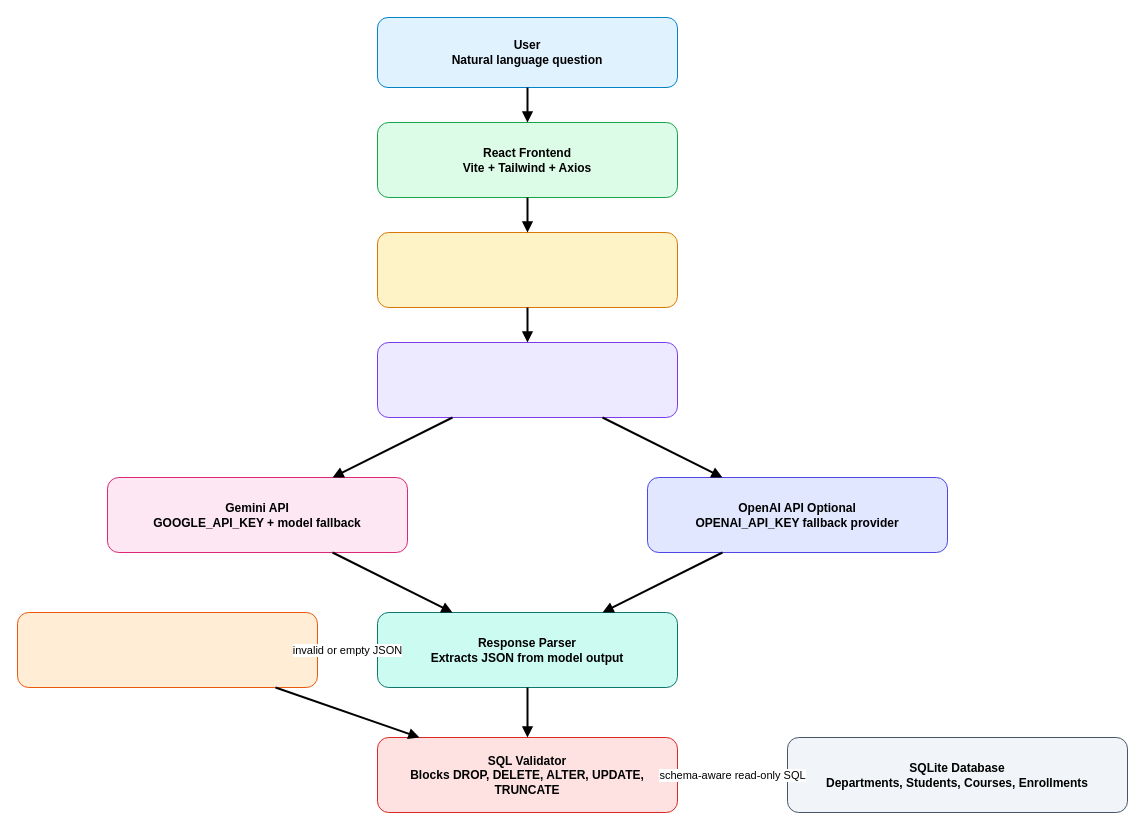
This 1145x830 diagram has some shape labels left out. The shapes that lost their labels are listed below. From the top down, each one's centre as x and y in pixels, then its label:
At pixel 527 270: "FastAPI Backend POST /generate".
At pixel 527 380: "AI Provider Router AI_PROVIDER=gemini or openai".
At pixel 167 650: "Local SQL Fallback Known schema + example prompts".
